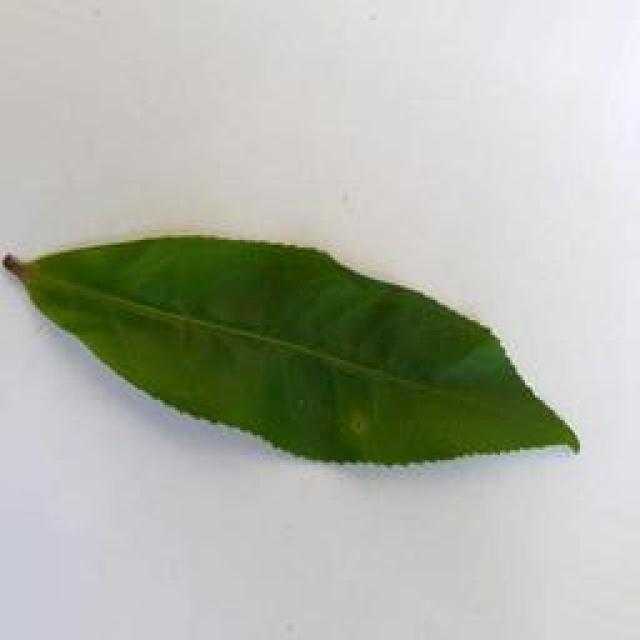Healthy: (2, 230, 614, 480)
